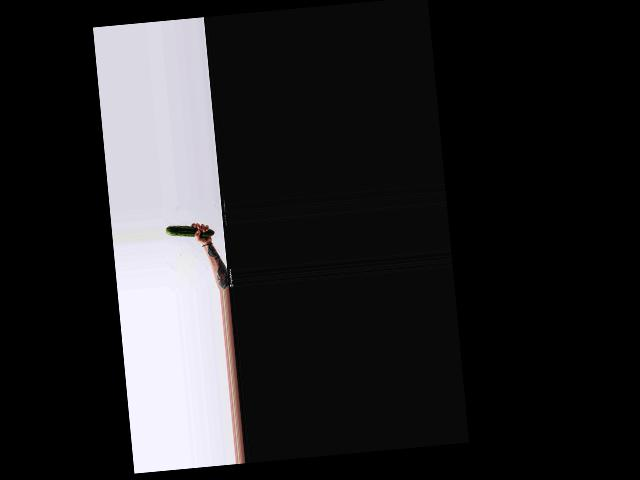cucumber: (165, 221, 214, 240)
